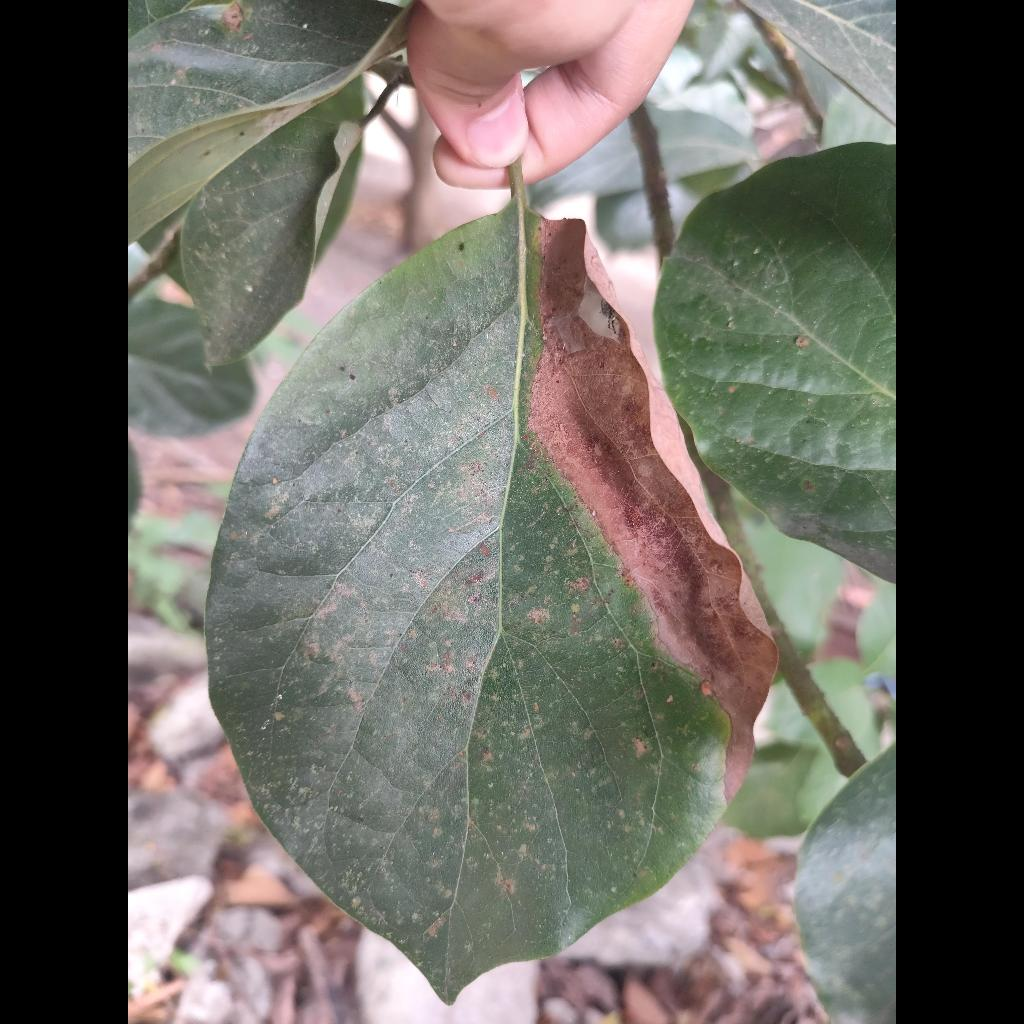antracnosis_hoja: (206, 199, 776, 1002)
